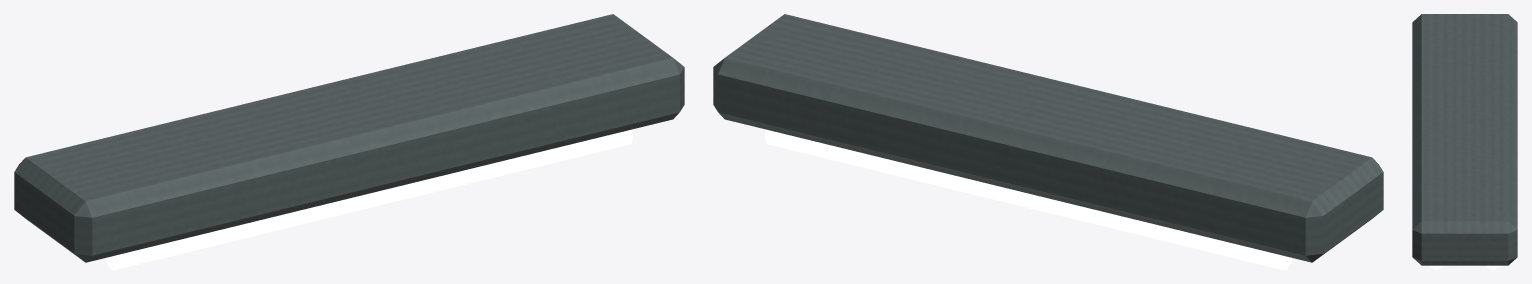
Rendered from fluorescent-fixture.glb.
3 renders of one model, left to right at view 1: azimuth 30°, elevation 25°; view 2: azimuth 150°, elevation 25°; view 3: azimuth 270°, elevation 25°, orthographic. The views are drawn at different scales.
Parts seen in each view (by area): view 1: Fluorescent housing, Fluorescent tube; view 2: Fluorescent housing, Fluorescent tube.001; view 3: Fluorescent housing.
Boxes of the visible parts, <box> form: Fluorescent housing: <box>14,14,684,262</box>; Fluorescent tube: <box>106,129,633,269</box>; Fluorescent housing: <box>713,14,1383,262</box>; Fluorescent tube.001: <box>764,129,1291,269</box>; Fluorescent housing: <box>1412,14,1517,265</box>.
Bounding box in the file's own units: 1.35 × 0.18 × 0.28.
2 materials, 1 textured.
